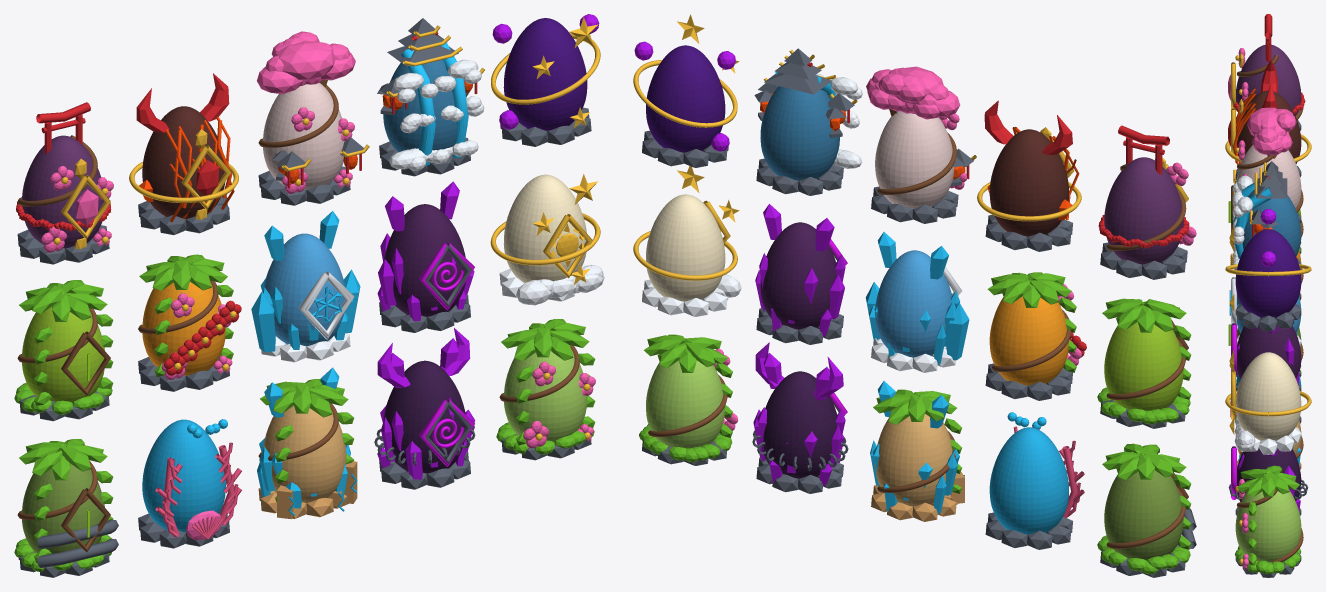
File: DecoratedEggs15-OriginalColors.fbx
3 renders of one model, left to right at view 1: azimuth 30°, elevation 25°; view 2: azimuth 150°, elevation 25°; view 3: azimuth 270°, elevation 25°, orthographic. The views are drawn at different scales.
Parts seen in each view (by area): view 1: 03 Ancient Sakura.001, 13 Desert Oasis.001, 04 Sky Waterfall.001, 14 Chained Abyss.001, 02 Volcanic Inferno.001, 11 Moss Ruins.001, 08 Frozen Rune.001, 06 Forest Heart.001, 15 Garden Bloom.001, 07 Tropical Bloom.001, 01 Sakura Shrine.001, 09 Void Crystal.001 (+3 smaller); view 2: 03 Ancient Sakura.001, 04 Sky Waterfall.001, 13 Desert Oasis.001, 14 Chained Abyss.001, 11 Moss Ruins.001, 08 Frozen Rune.001, 02 Volcanic Inferno.001, 15 Garden Bloom.001, 07 Tropical Bloom.001, 01 Sakura Shrine.001, 06 Forest Heart.001, 05 Astral Orbit.001 (+3 smaller); view 3: 15 Garden Bloom.001, 10 Solar Crown.001, 05 Astral Orbit.001, 04 Sky Waterfall.001, 03 Ancient Sakura.001, 01 Sakura Shrine.001, 02 Volcanic Inferno.001, 09 Void Crystal.001, 14 Chained Abyss.001, 08 Frozen Rune.001, 13 Desert Oasis.001, 06 Forest Heart.001 (+1 smaller).
Boxes of the visible parts, x1=… form: 03 Ancient Sakura.001: x1=257, y1=31, x2=369, y2=205; 13 Desert Oasis.001: x1=257, y1=367, x2=357, y2=519; 04 Sky Waterfall.001: x1=377, y1=18, x2=484, y2=176; 14 Chained Abyss.001: x1=374, y1=328, x2=475, y2=489; 02 Volcanic Inferno.001: x1=129, y1=73, x2=238, y2=235; 11 Moss Ruins.001: x1=14, y1=439, x2=118, y2=577; 08 Frozen Rune.001: x1=251, y1=211, x2=360, y2=362; 06 Forest Heart.001: x1=14, y1=280, x2=113, y2=421; 15 Garden Bloom.001: x1=496, y1=319, x2=595, y2=460; 07 Tropical Bloom.001: x1=138, y1=254, x2=241, y2=391; 01 Sakura Shrine.001: x1=16, y1=102, x2=113, y2=264; 09 Void Crystal.001: x1=377, y1=181, x2=474, y2=332; 03 Ancient Sakura.001: x1=866, y1=66, x2=976, y2=223; 04 Sky Waterfall.001: x1=754, y1=48, x2=862, y2=195; 13 Desert Oasis.001: x1=870, y1=381, x2=964, y2=521; 14 Chained Abyss.001: x1=752, y1=342, x2=848, y2=493; 11 Moss Ruins.001: x1=1097, y1=443, x2=1196, y2=577; 08 Frozen Rune.001: x1=865, y1=232, x2=969, y2=372; 02 Volcanic Inferno.001: x1=977, y1=100, x2=1081, y2=251; 15 Garden Bloom.001: x1=639, y1=334, x2=737, y2=465; 07 Tropical Bloom.001: x1=985, y1=272, x2=1086, y2=400; 01 Sakura Shrine.001: x1=1098, y1=125, x2=1196, y2=279; 06 Forest Heart.001: x1=1097, y1=298, x2=1191, y2=428; 05 Astral Orbit.001: x1=633, y1=14, x2=739, y2=167; 15 Garden Bloom.001: x1=1235, y1=465, x2=1303, y2=577; 10 Solar Crown.001: x1=1225, y1=349, x2=1311, y2=454; 05 Astral Orbit.001: x1=1225, y1=209, x2=1311, y2=331; 04 Sky Waterfall.001: x1=1232, y1=161, x2=1301, y2=269; 03 Ancient Sakura.001: x1=1233, y1=107, x2=1303, y2=223; 01 Sakura Shrine.001: x1=1228, y1=14, x2=1305, y2=130; 02 Volcanic Inferno.001: x1=1225, y1=60, x2=1311, y2=177; 09 Void Crystal.001: x1=1231, y1=323, x2=1301, y2=390; 14 Chained Abyss.001: x1=1228, y1=442, x2=1308, y2=515; 08 Frozen Rune.001: x1=1229, y1=277, x2=1301, y2=346; 13 Desert Oasis.001: x1=1237, y1=419, x2=1303, y2=469; 06 Forest Heart.001: x1=1228, y1=185, x2=1303, y2=254.
Bounding box in the file's own units: 1582 × 1212 × 261.
1 material, 1 textured.
